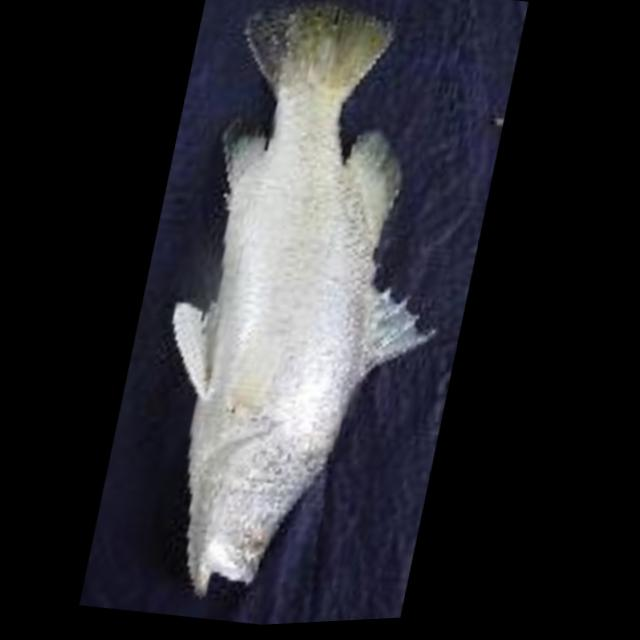Seabass: (113, 0, 505, 631)
